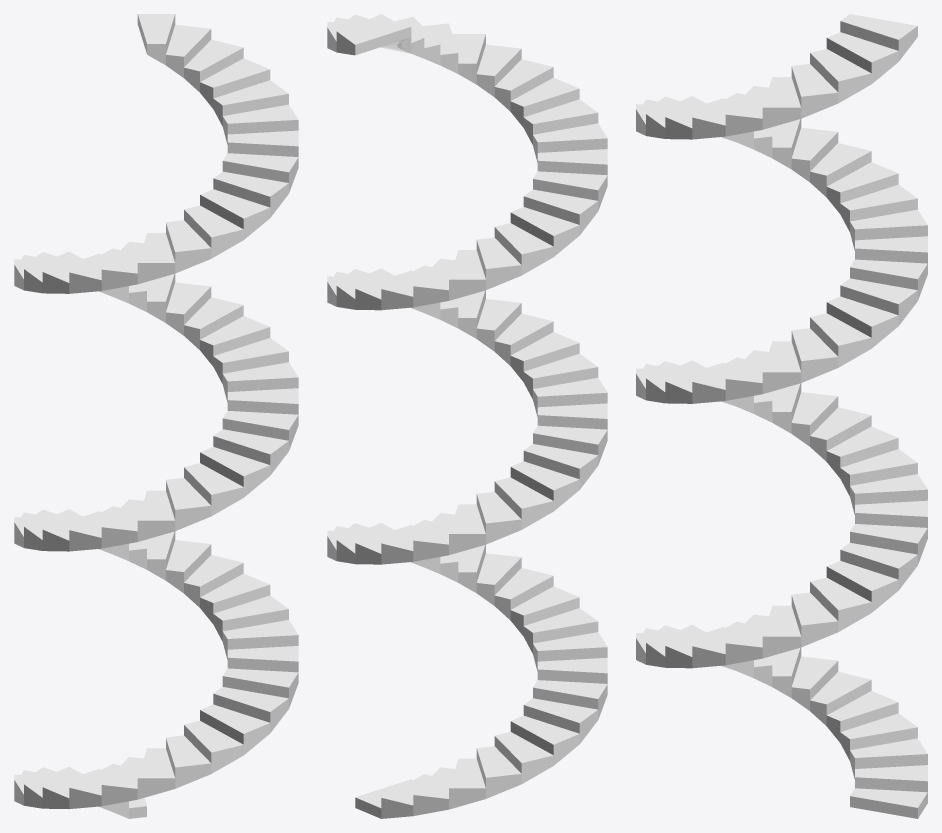
File: staircase up.glb
3 renders of one model, left to right at view 1: azimuth 30°, elevation 25°; view 2: azimuth 150°, elevation 25°; view 3: azimuth 270°, elevation 25°, orthographic. The views are drawn at different scales.
Parts seen in each view (by area): view 1: staircase up; view 2: staircase up; view 3: staircase up.
Boxes of the visible parts, x1,y1,x2,y2 form: staircase up: (14, 14, 298, 818); staircase up: (327, 14, 607, 818); staircase up: (636, 14, 927, 818).
Size of the model in its own units: 6 by 18 by 6.
1 material, 1 textured.
